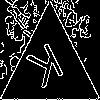K: (25, 41, 70, 98)
